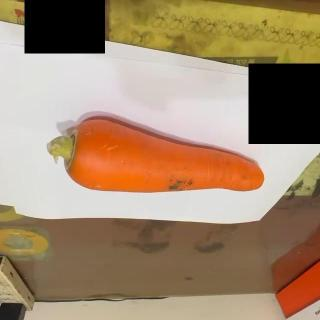carrot: (49, 118, 269, 194)
